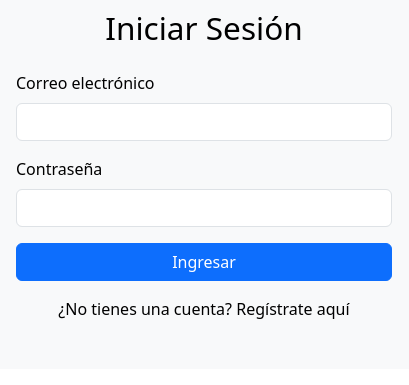
it: Componente Login › muestra error si las credenciales son incorrectas
The image size is (409, 385).
Type "pablo@test.com" into the field labelled "Correo electrónico".
click(204, 122); type("pablo@test.com")  # box [16,103,392,141]
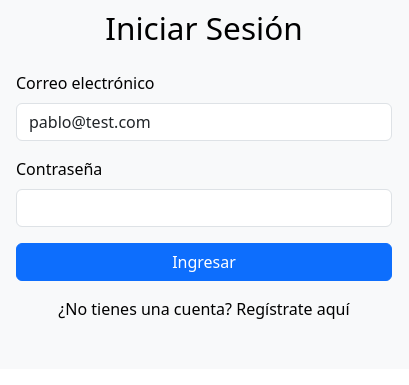
Type "wrongpass" into the password field labelled "Contraseña".
click(204, 208); type("wrongpass")  # box [16,189,392,227]
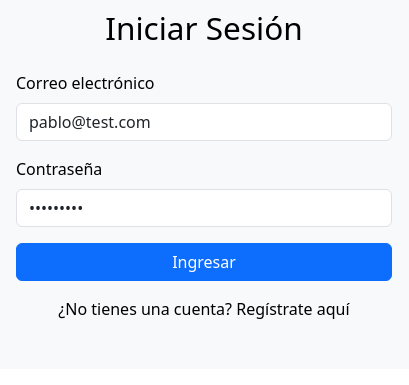
Click the button "Ingresar".
click(204, 262)  # box [16,243,392,281]
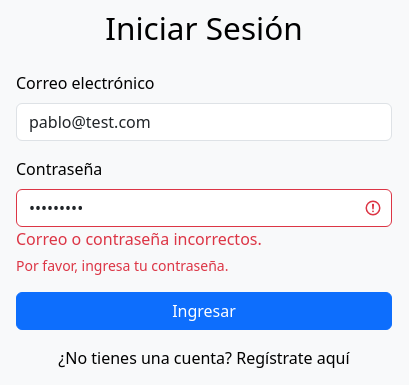
Now the text "Correo o contraseña incorrectos." is shown, box [16,228,262,250]
